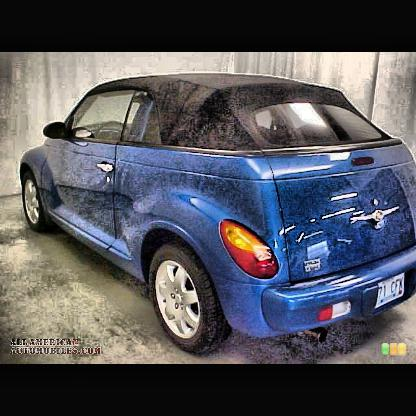Chrysler PT Cruiser Convertible 2008: (13, 67, 416, 360)
